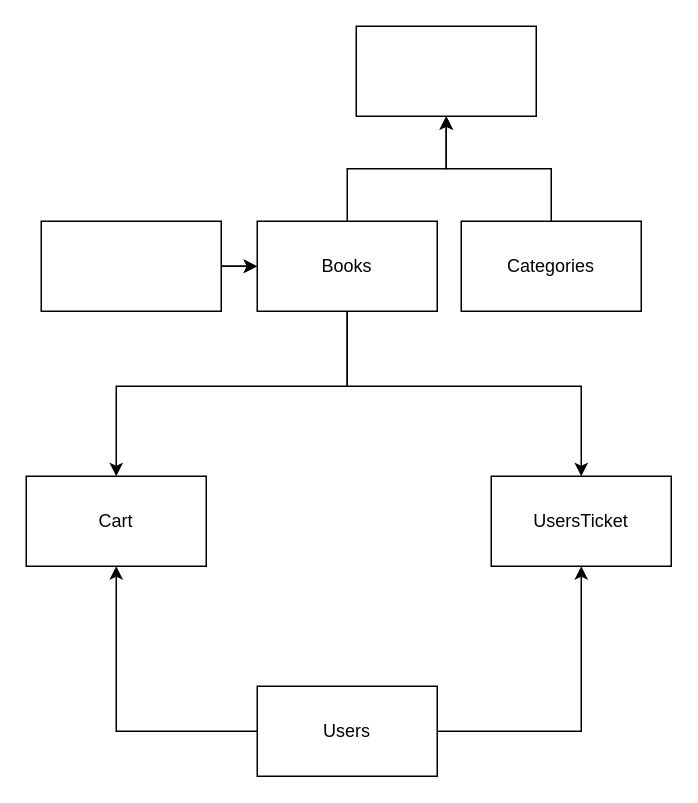
The diagram is 698 pixels wide and 803 high, and some of its shapes have lost their labels. Here are the shapes that lost their labels. From the top down, the centre of each, then its label:
At (x=445, y=70): "BooksCategories".
At (x=130, y=265): "Authors".
